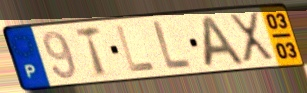9: (40, 29, 79, 81)
A: (202, 13, 248, 70)
L: (114, 24, 158, 75), (151, 19, 194, 71)
T: (73, 24, 109, 79)
X: (227, 10, 278, 64)
